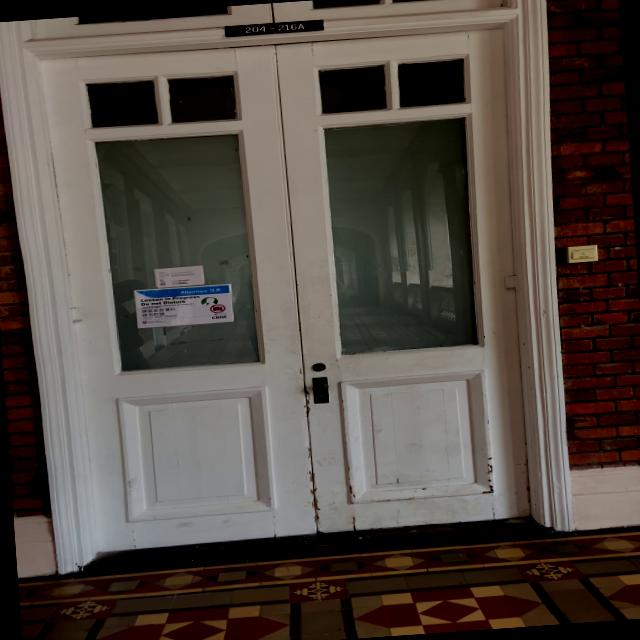room204: (218, 14, 334, 38)
